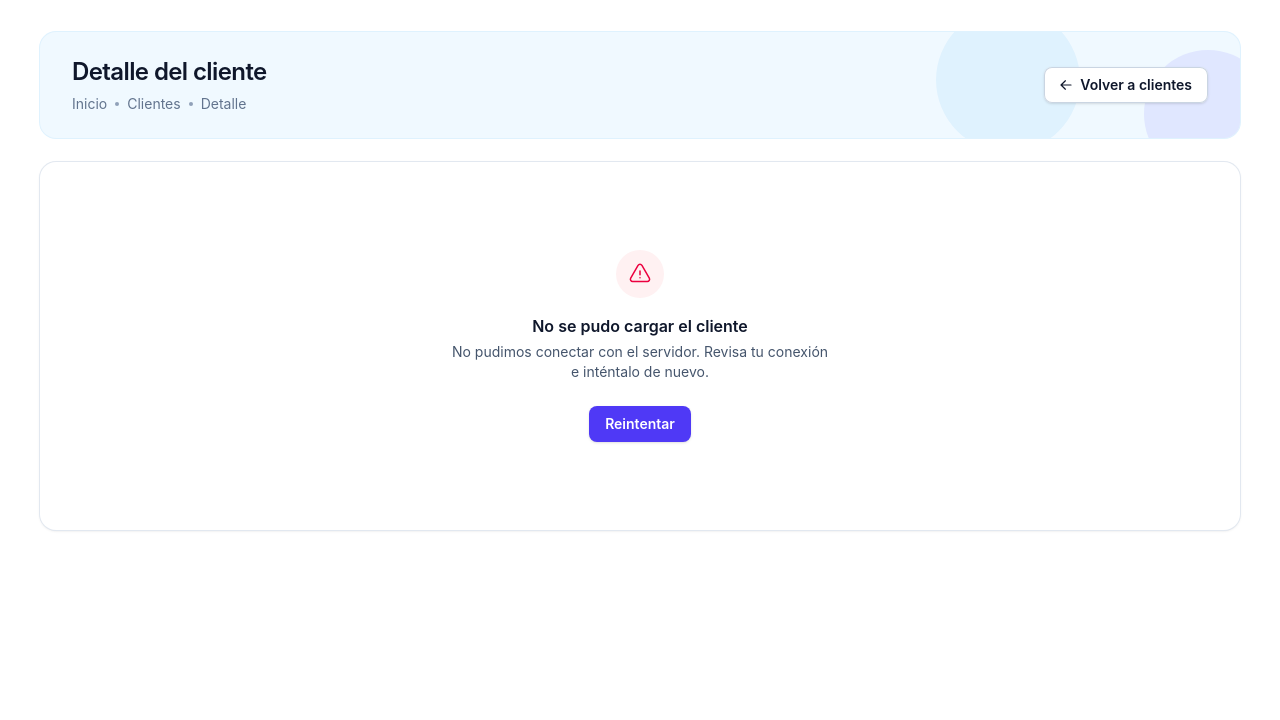
Test: CustomerDetailScreen › offers a retry when loading fails (AC-16)
This screenshot has width=1280, height=720.
expect the message shows "conectar con el servidor": met, box [452,343,828,380]
What coordinates should you click on to do the following:
click the button "Reintentar"
I would click on:
 (640, 424)
Its box is [589,406,691,442].
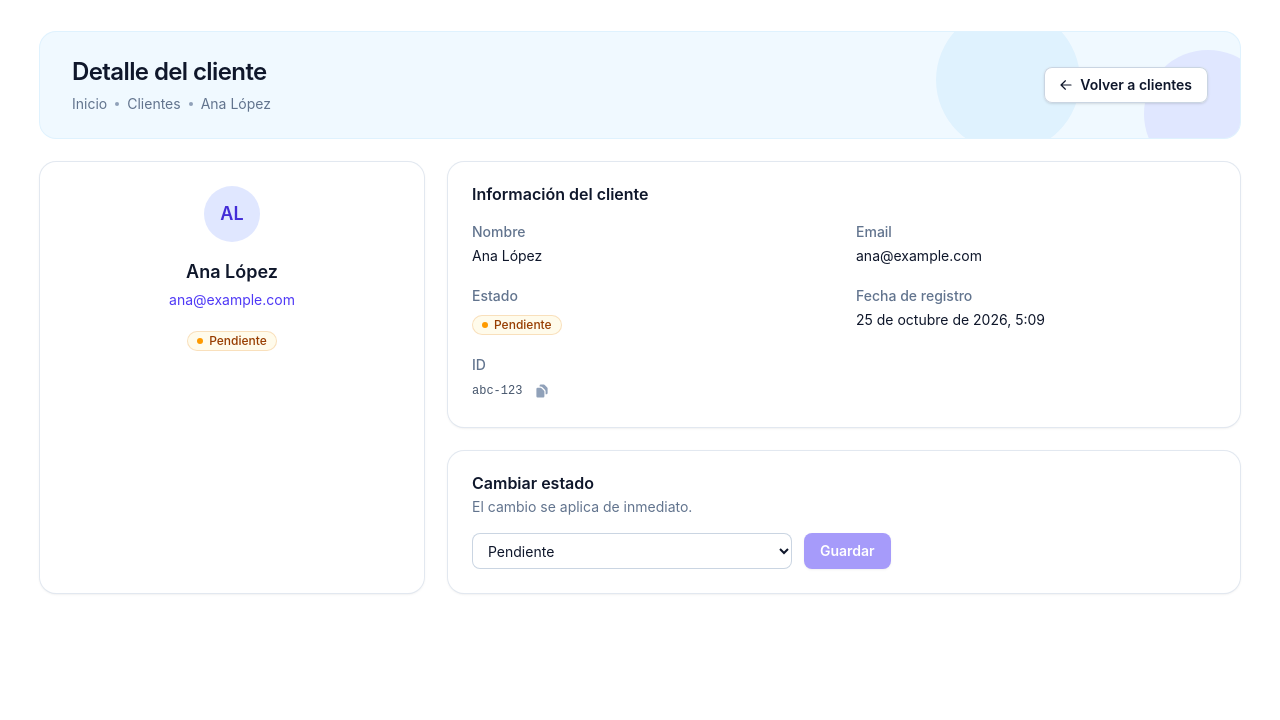
expect the heading "Ana López" is shown: met, box [186,258,278,286]
